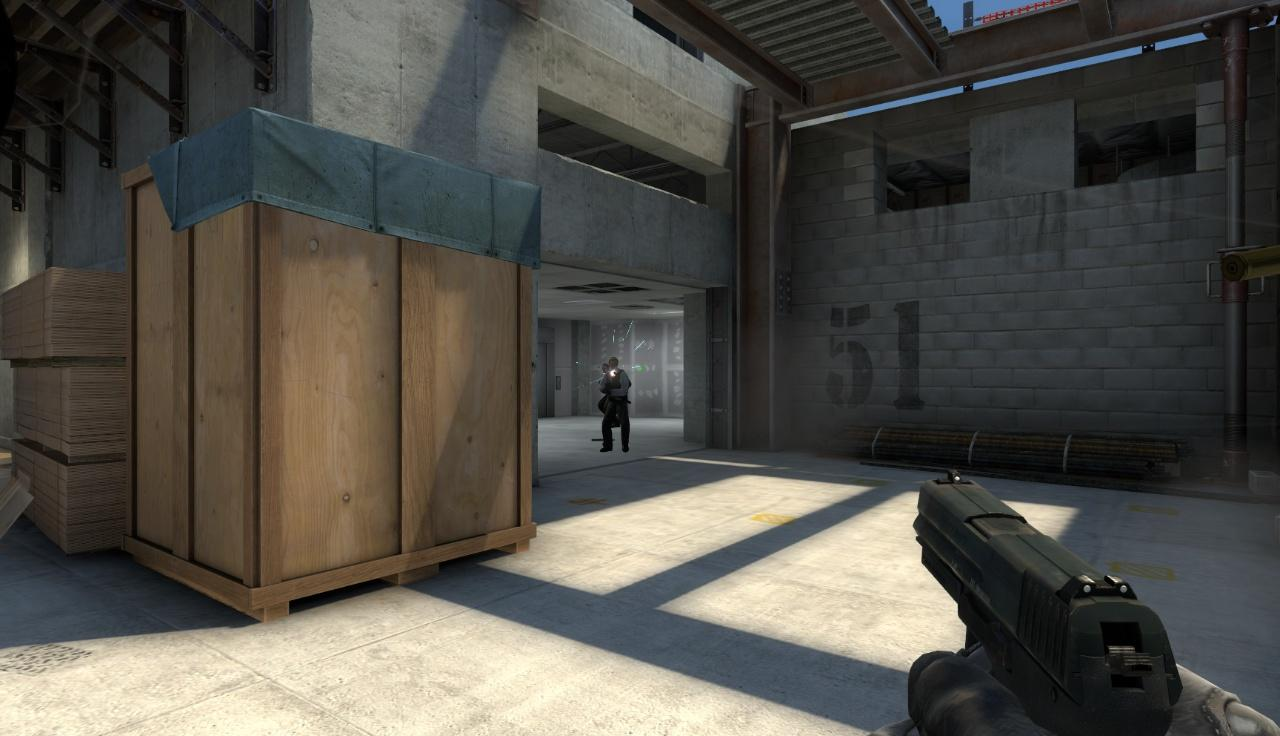pistol: (909, 475, 1191, 736)
tt: (600, 357, 629, 449)
tthead: (608, 357, 619, 371)
